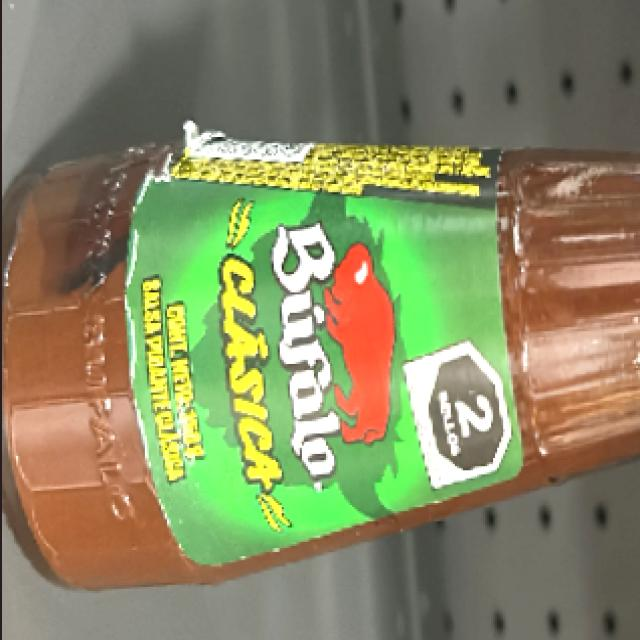salsaBufalo: (0, 151, 638, 544)
